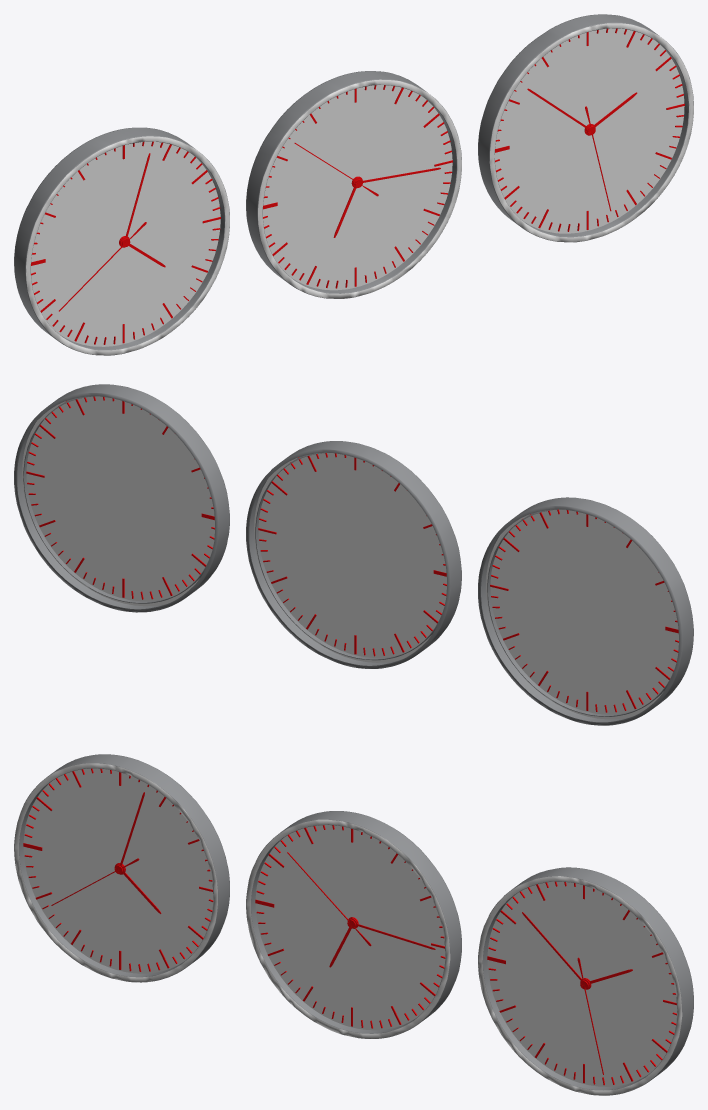
File: Relojes.fbx
3 views of the same model, one above another, from view 1: azimuth 30°, elevation 25°; view 2: azimuth 150°, elevation 25°; view 3: azimuth 330°, elevation 25° (orthographic).
Visible parts, largest first — view 1: Relojes; view 2: Relojes; view 3: Relojes.
Boxes of the visible parts, x1=… form: Relojes: x1=14, y1=14, x2=693, y2=355; Relojes: x1=14, y1=384, x2=693, y2=725; Relojes: x1=14, y1=754, x2=693, y2=1095.
Bounding box in the file's own units: 178 × 54.62 × 5.44.
